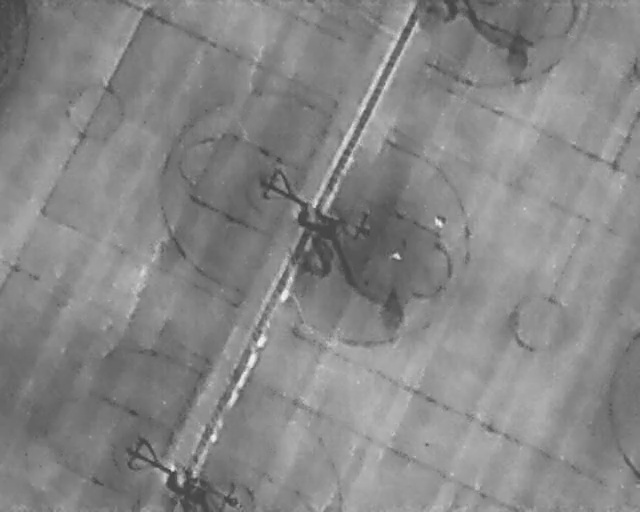Person: (432, 213, 446, 230), (389, 250, 403, 263)
